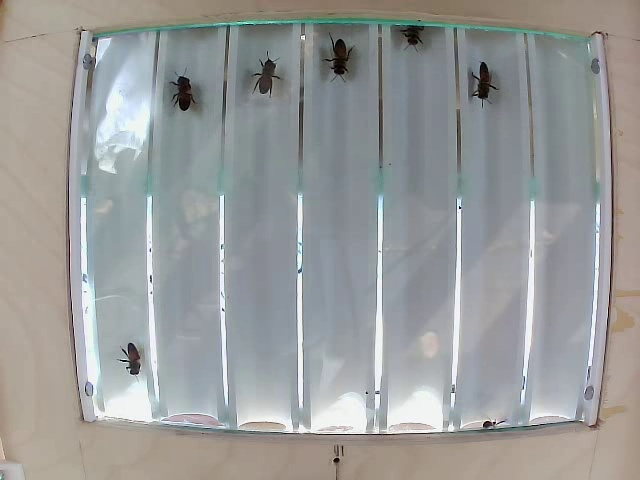bee: (463, 54, 496, 112), (322, 30, 355, 85), (251, 48, 284, 100), (167, 70, 195, 120), (397, 24, 437, 57), (112, 338, 144, 378)
